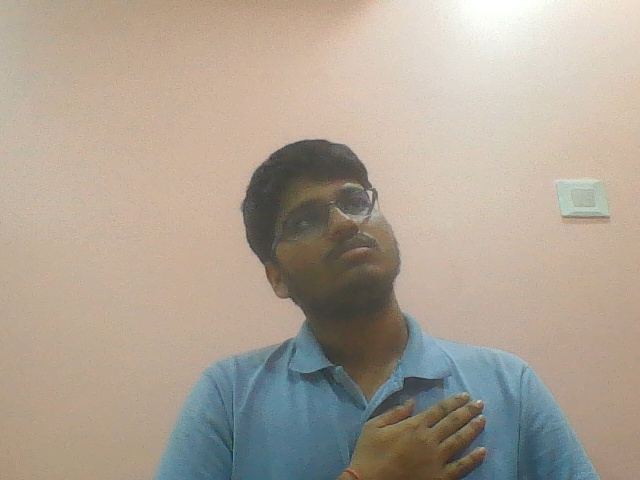please: (351, 389, 499, 480)
